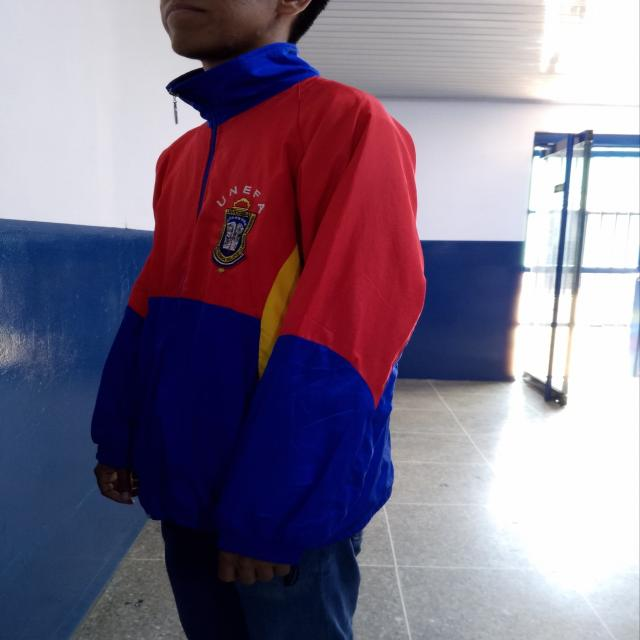chaqueta_unefa: (89, 41, 427, 568)
